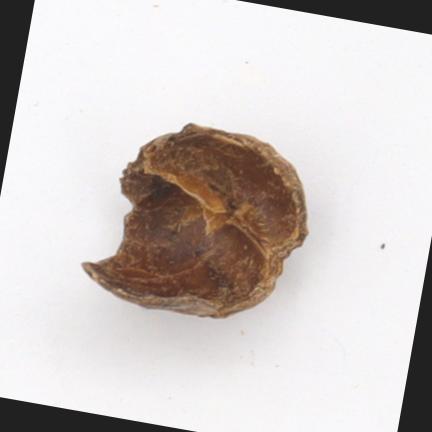husk: (83, 124, 307, 318)
